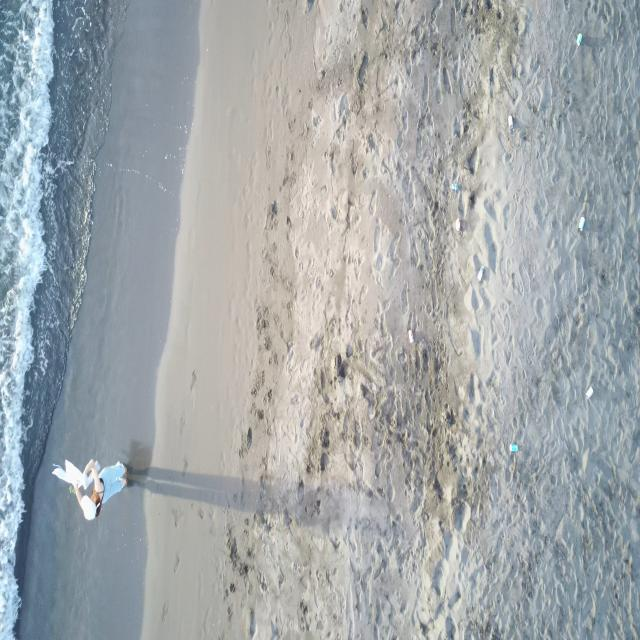tin-and-aluminum-cans: (578, 215, 586, 232), (478, 265, 486, 281), (576, 32, 583, 48), (586, 386, 594, 399), (509, 442, 518, 453), (408, 328, 414, 344), (508, 114, 514, 130), (455, 219, 461, 232), (451, 181, 458, 192)
